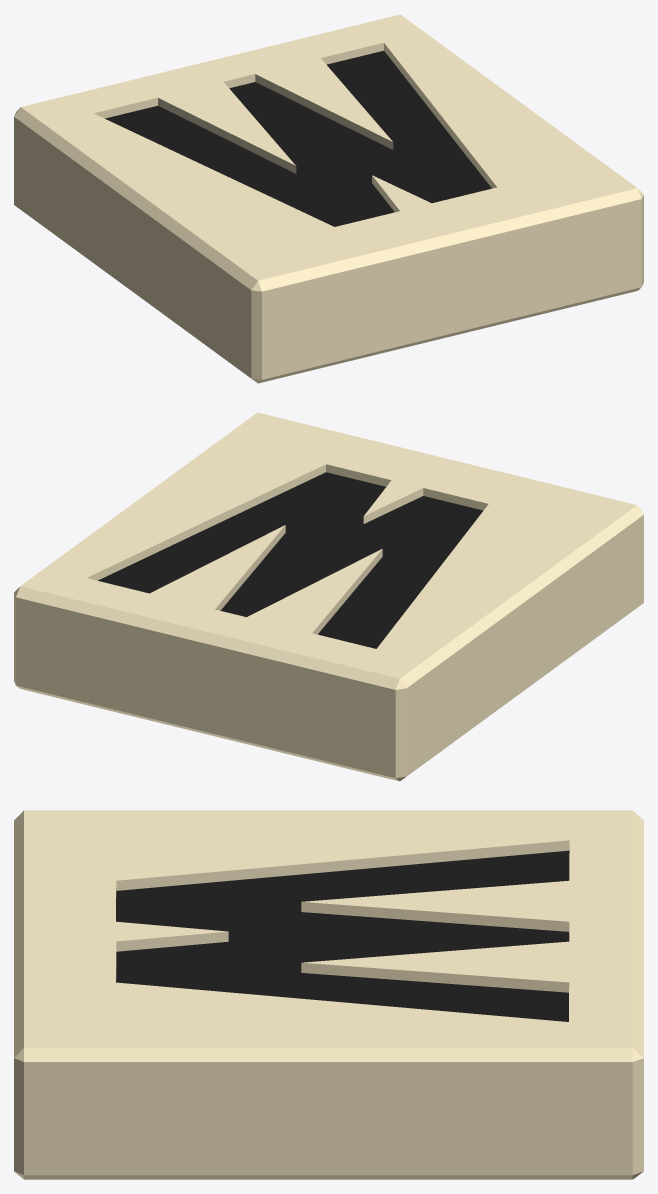
Rendered from Boardgame_Piece_Anagram_Letter_W_01.fbx.
The picture shows the model from 3 angles, top to bottom: view 1: azimuth 30°, elevation 25°; view 2: azimuth 150°, elevation 25°; view 3: azimuth 270°, elevation 25°; orthographic projection. The views are drawn at different scales.
Parts seen in each view (by area): view 1: Boardgame_Piece_Anagram_Letter_W_01; view 2: Boardgame_Piece_Anagram_Letter_W_01; view 3: Boardgame_Piece_Anagram_Letter_W_01.
Boxes of the visible parts, x1=… form: Boardgame_Piece_Anagram_Letter_W_01: x1=14, y1=14, x2=643, y2=383; Boardgame_Piece_Anagram_Letter_W_01: x1=14, y1=412, x2=643, y2=781; Boardgame_Piece_Anagram_Letter_W_01: x1=14, y1=810, x2=643, y2=1179.
Bounding box in the file's own units: 39.37 × 9.84 × 42.65.
